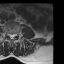CCS_normal: (11, 31, 13, 40)
LFS_normal: (15, 31, 17, 37)
LLS_normal: (13, 31, 15, 39)
RFS_normal: (7, 31, 9, 37)
RLS_normal: (9, 31, 11, 39)
